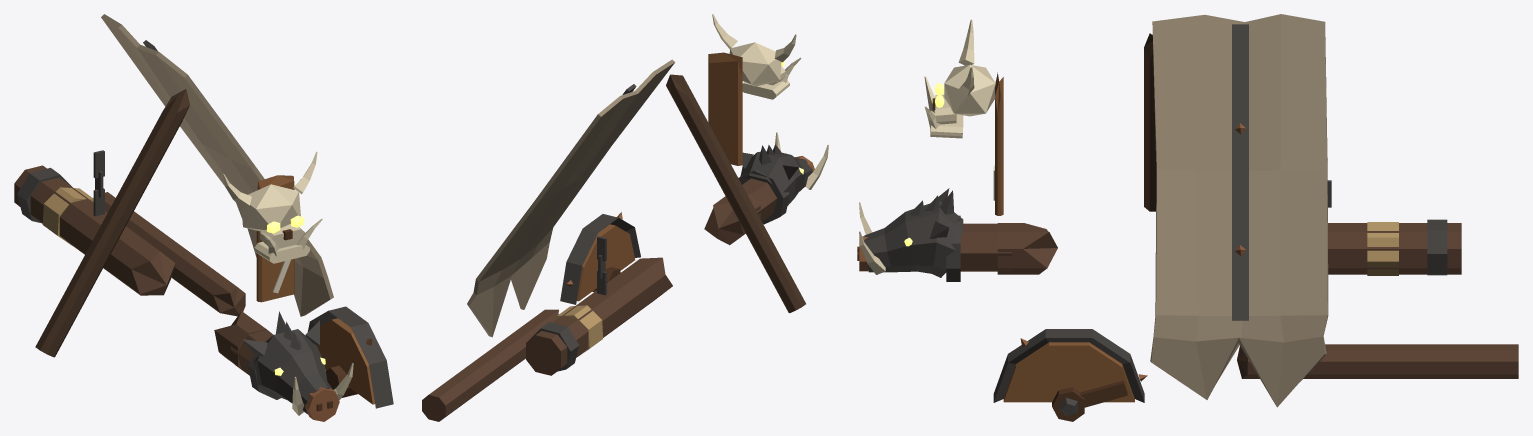
File: Ork_Rammbock_Truemmer.fbx
3 views of the same model, side by side, from view 1: azimuth 30°, elevation 25°; view 2: azimuth 150°, elevation 25°; view 3: azimuth 270°, elevation 25° (orthographic). The views are drawn at different scales.
Parts seen in each view (by area): view 1: Truemmer_05, Truemmer_07, Truemmer_06, Truemmer_04, Truemmer_02, Truemmer_08, Truemmer_03, Truemmer_01; view 2: Truemmer_05, Truemmer_07, Truemmer_04, Truemmer_06, Truemmer_03, Truemmer_02, Truemmer_01, Truemmer_08; view 3: Truemmer_05, Truemmer_06, Truemmer_02, Truemmer_03, Truemmer_07, Truemmer_08, Truemmer_04, Truemmer_01.
Part boxes in pixels (<box>): Truemmer_05: <box>101,14,333,316</box>; Truemmer_07: <box>14,150,175,295</box>; Truemmer_06: <box>214,311,353,421</box>; Truemmer_04: <box>35,89,189,357</box>; Truemmer_02: <box>307,306,393,408</box>; Truemmer_08: <box>223,151,322,263</box>; Truemmer_03: <box>93,192,245,316</box>; Truemmer_01: <box>256,175,294,302</box>; Truemmer_05: <box>467,59,675,337</box>; Truemmer_07: <box>526,236,672,375</box>; Truemmer_04: <box>666,74,805,313</box>; Truemmer_06: <box>704,132,828,245</box>; Truemmer_03: <box>422,309,558,421</box>; Truemmer_02: <box>560,212,640,304</box>; Truemmer_01: <box>708,52,742,165</box>; Truemmer_08: <box>712,14,801,99</box>; Truemmer_05: <box>1150,14,1328,407</box>; Truemmer_06: <box>857,188,1057,281</box>; Truemmer_02: <box>993,329,1147,421</box>; Truemmer_03: <box>1237,344,1518,378</box>; Truemmer_07: <box>1327,180,1461,275</box>; Truemmer_08: <box>924,19,995,138</box>; Truemmer_04: <box>1144,33,1156,211</box>; Truemmer_01: <box>993,72,1003,215</box>.
Bounding box in the file's own units: 2.49 × 2.61 × 4.63.
